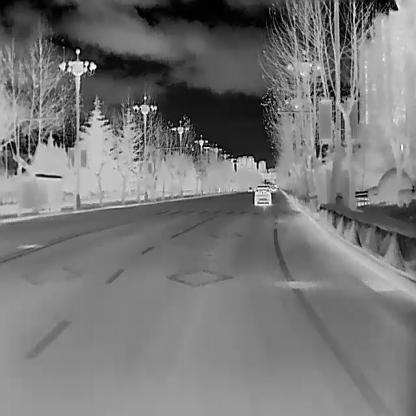car: (254, 184, 271, 206), (247, 186, 252, 192)
